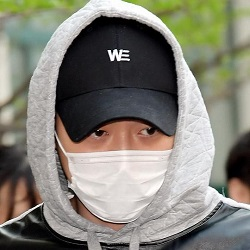mask: (54, 144, 174, 225)
